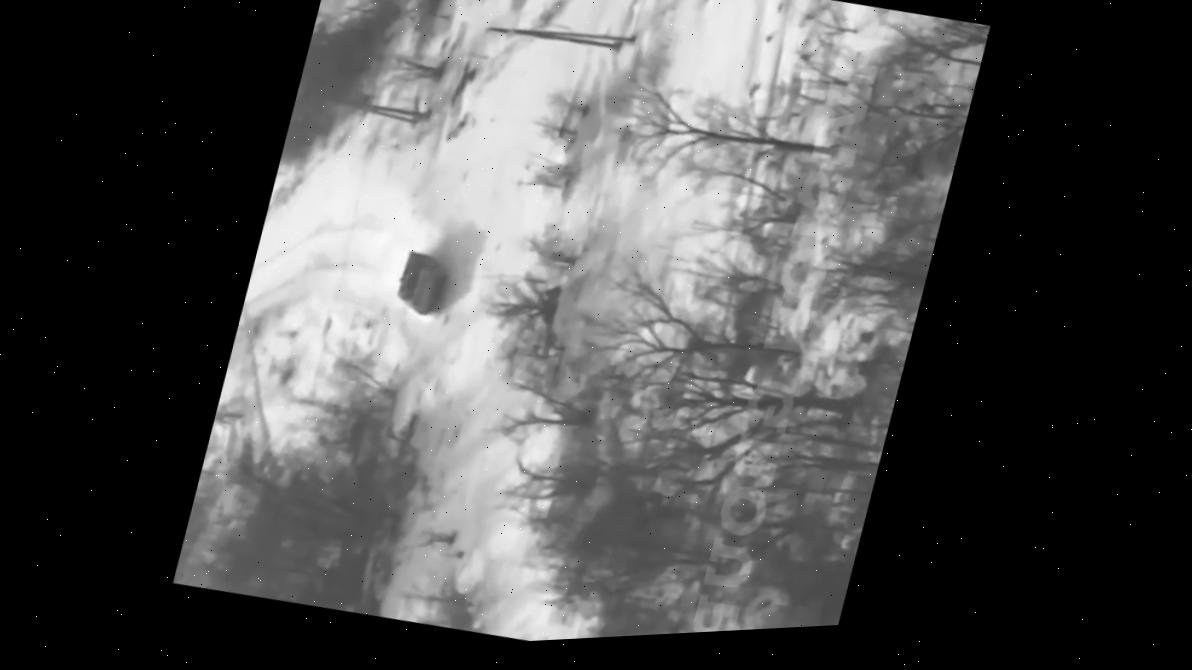vehicle: (385, 244, 453, 319)
